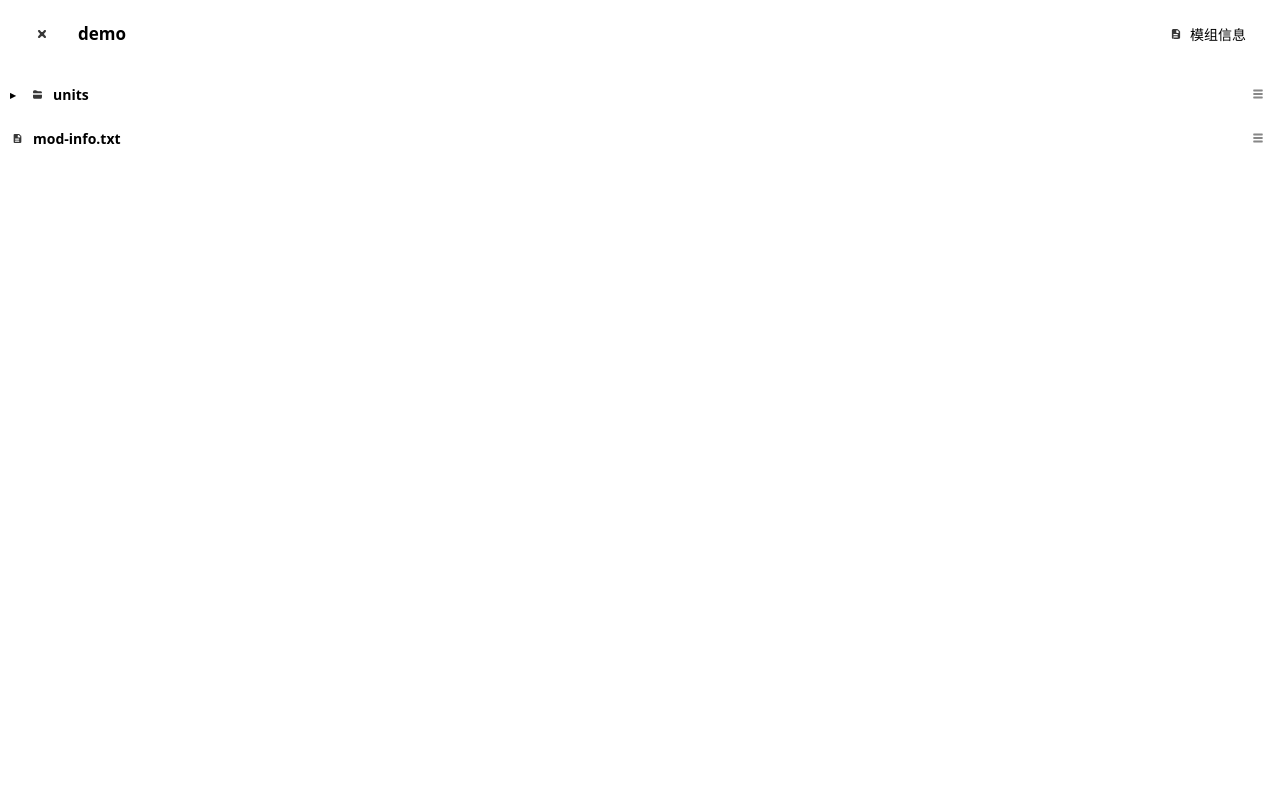
Test case: 编辑器页：保存失败与冲突 › 磁盘被外部改动时保存先提示冲突
Click the text "units": [71, 94] box top-left (53, 84), bottom-right (89, 104)
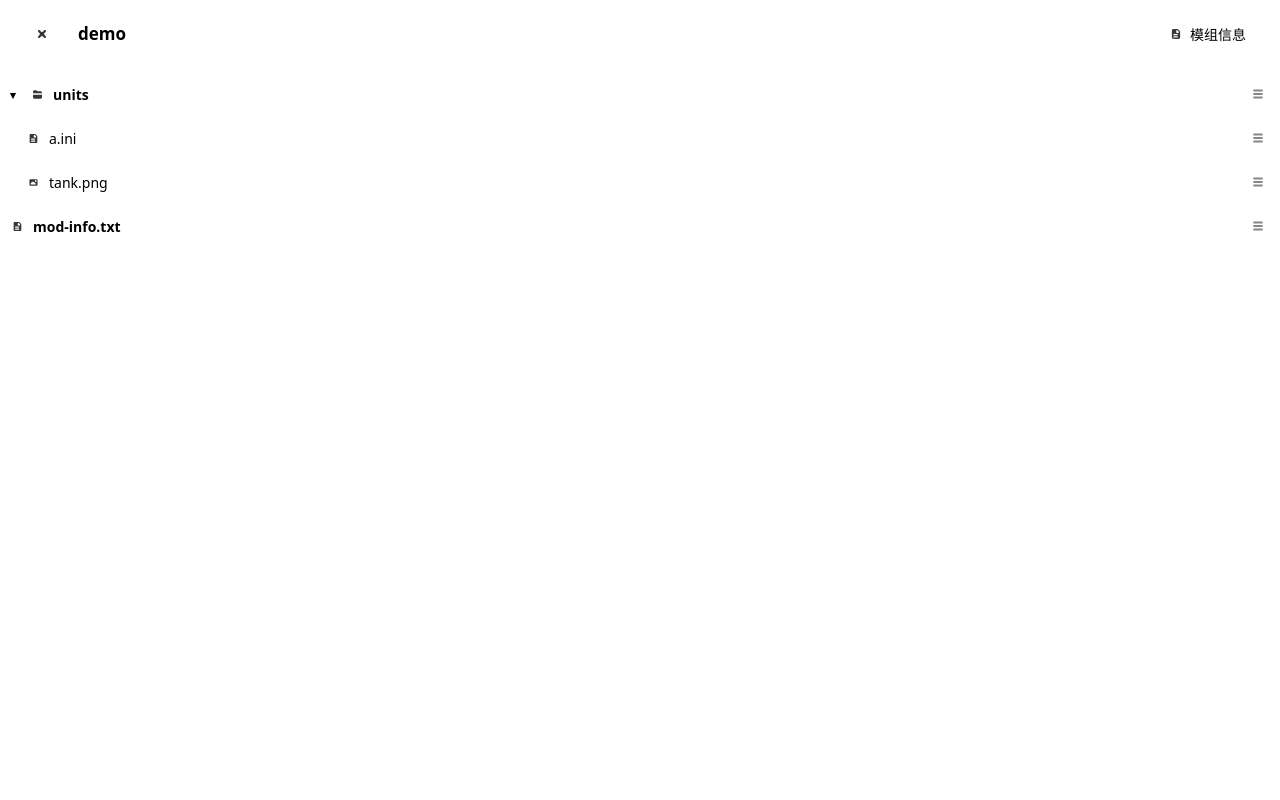
Click the button "a.ini": [34, 138] box top-left (0, 118), bottom-right (1236, 158)
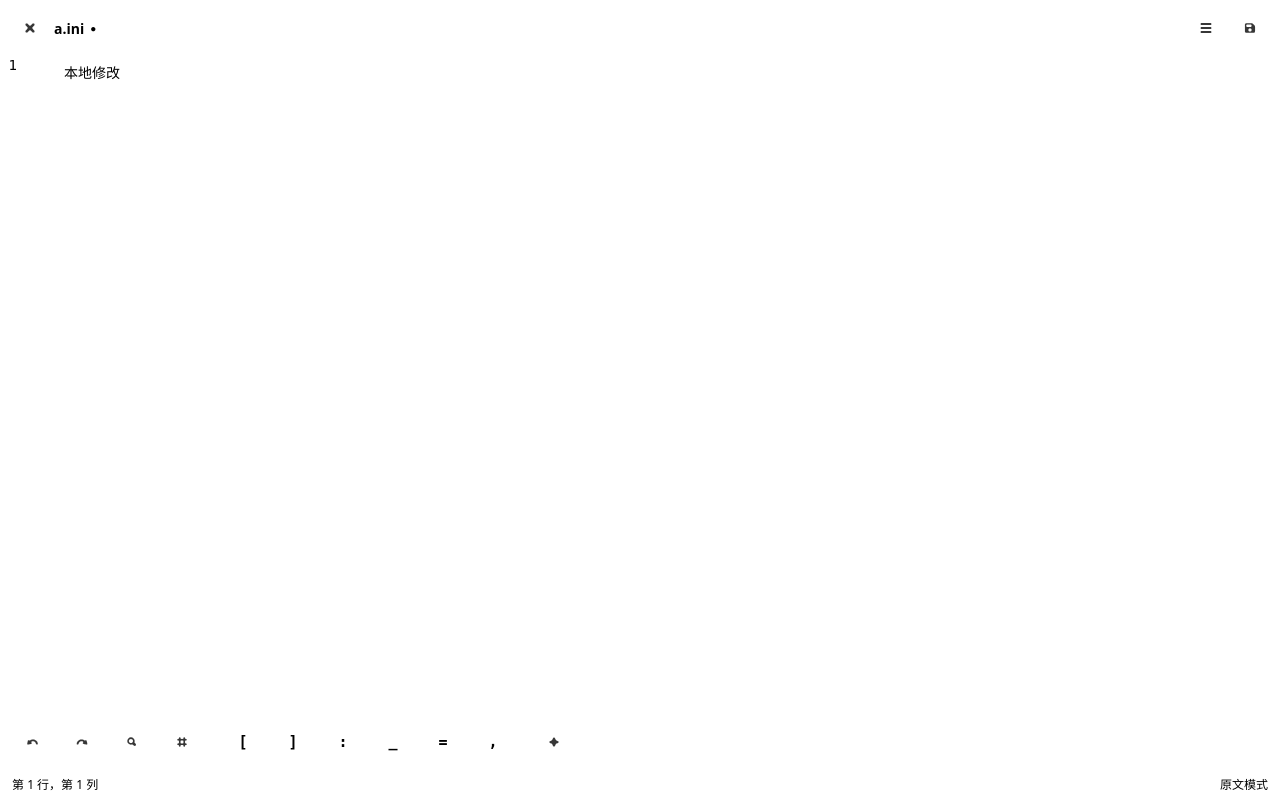
Click the button named "保存": [1250, 28] box top-left (1230, 8), bottom-right (1270, 48)
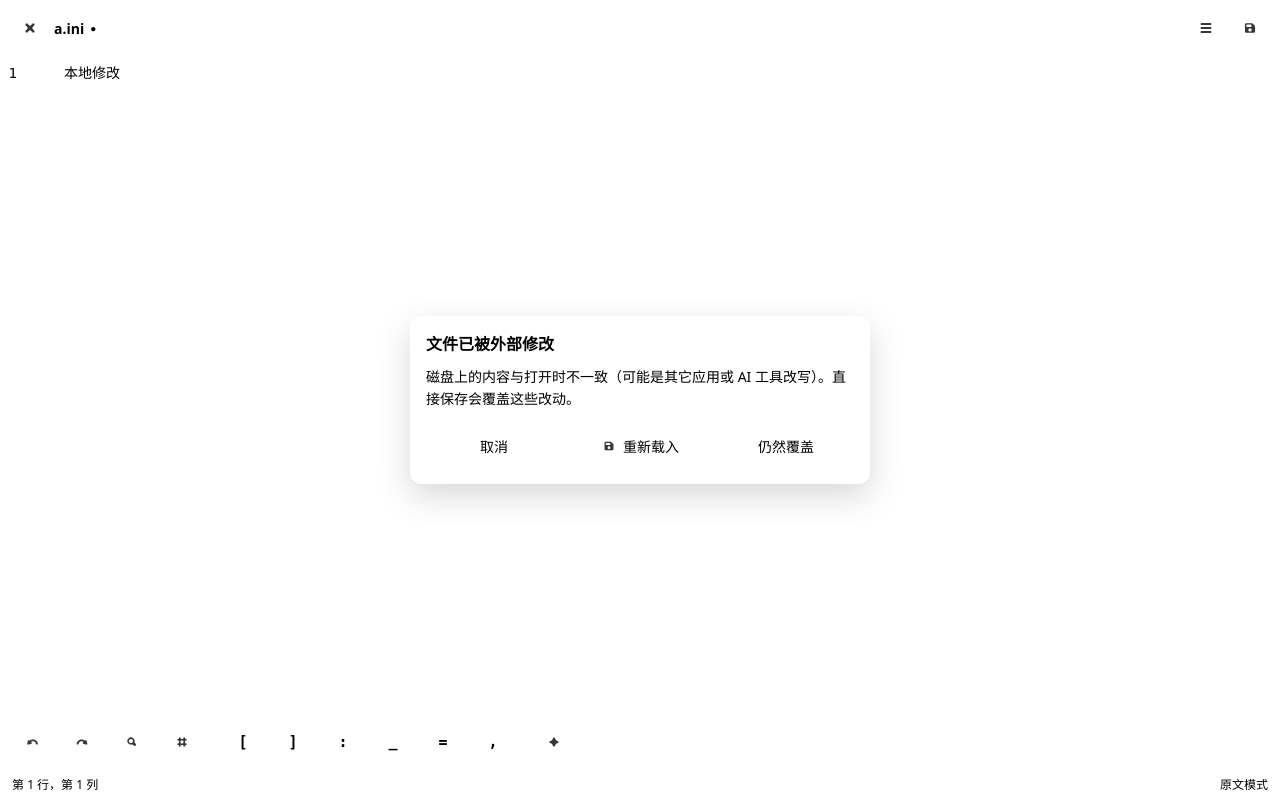
expect the heading "文件已被外部修改" is shown: met, box top-left (426, 333), bottom-right (554, 355)
